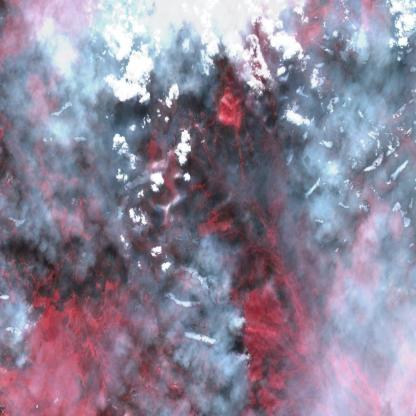fire: (198, 283, 264, 416), (2, 272, 52, 372)
